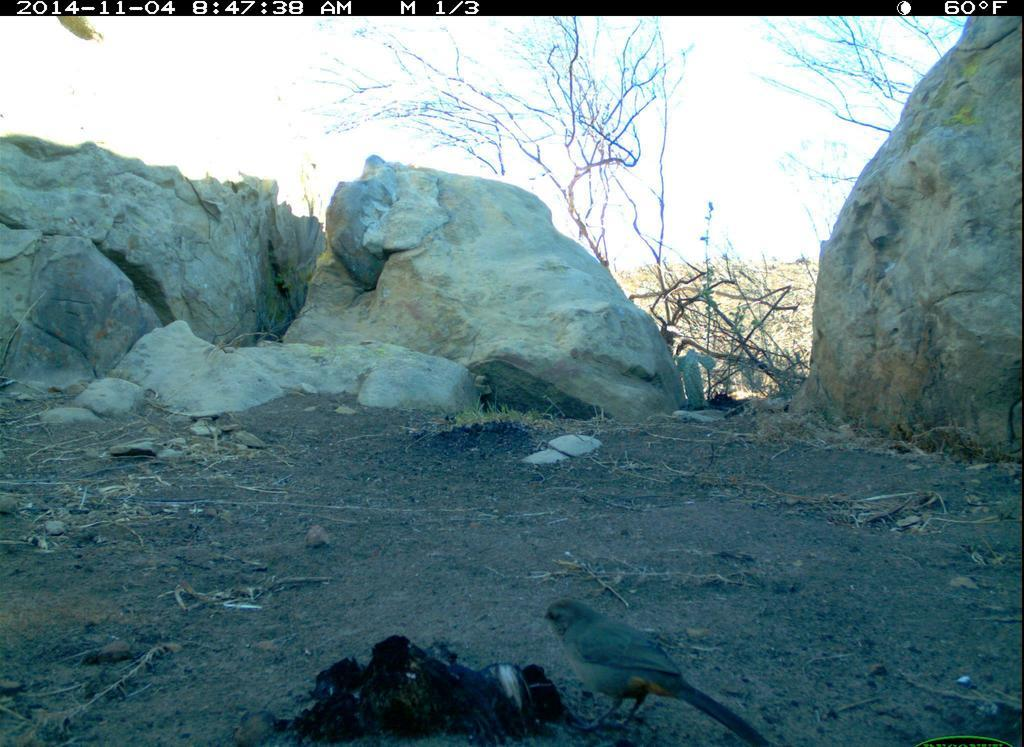bird: (542, 592, 770, 745)
